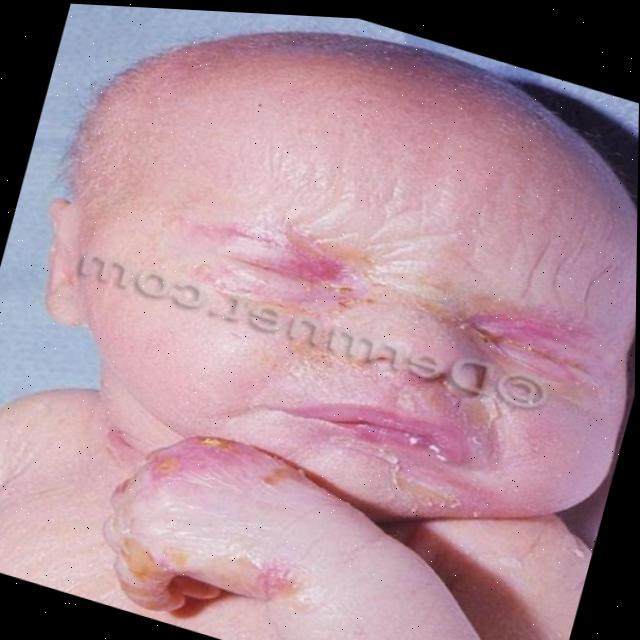Eczema: (98, 417, 303, 627), (287, 370, 493, 499), (192, 211, 360, 346), (465, 301, 609, 396)
